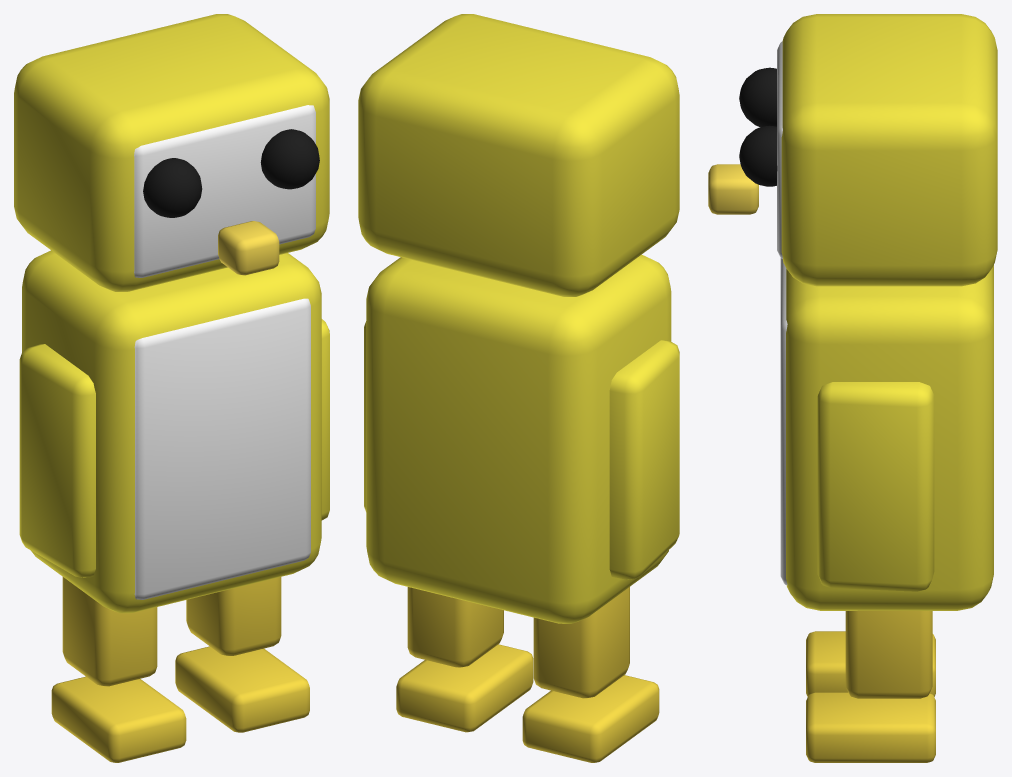
File: Penguin_Yellow.glb
3 views of the same model, side by side, from view 1: azimuth 30°, elevation 25°; view 2: azimuth 150°, elevation 25°; view 3: azimuth 270°, elevation 25° (orthographic).
Parts seen in each view (by area): view 1: Penguin_Yellow; view 2: Penguin_Yellow; view 3: Penguin_Yellow.
Part boxes in pixels (x1,y1,x2,y2): Penguin_Yellow: (14,14,329,762); Penguin_Yellow: (358,14,679,762); Penguin_Yellow: (708,14,997,762).
Bounding box in the file's own units: 0.8797 × 2 × 0.8.
